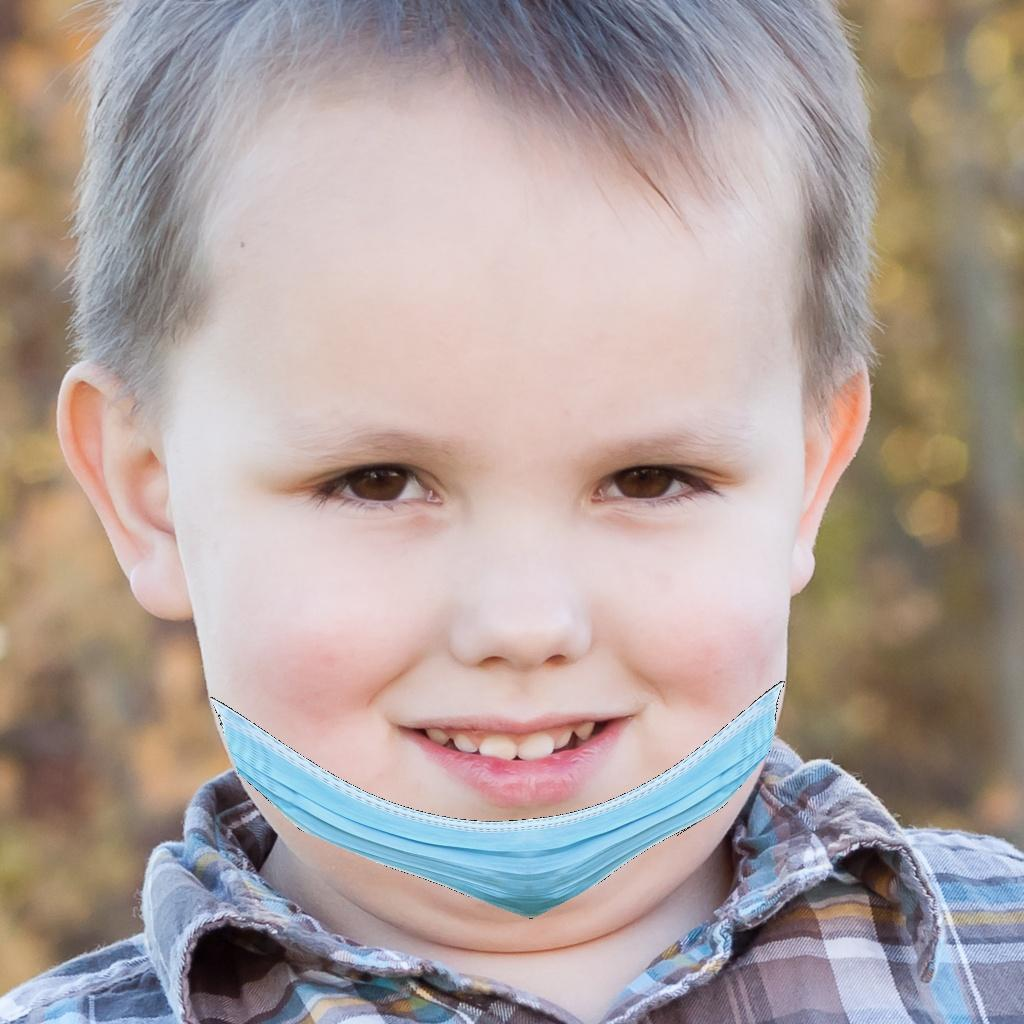Máscara Incorreta: (170, 242, 801, 921)
